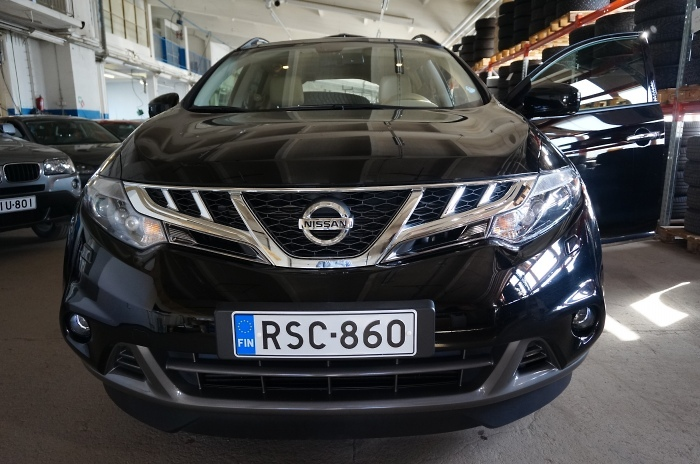license: (227, 306, 413, 360)
